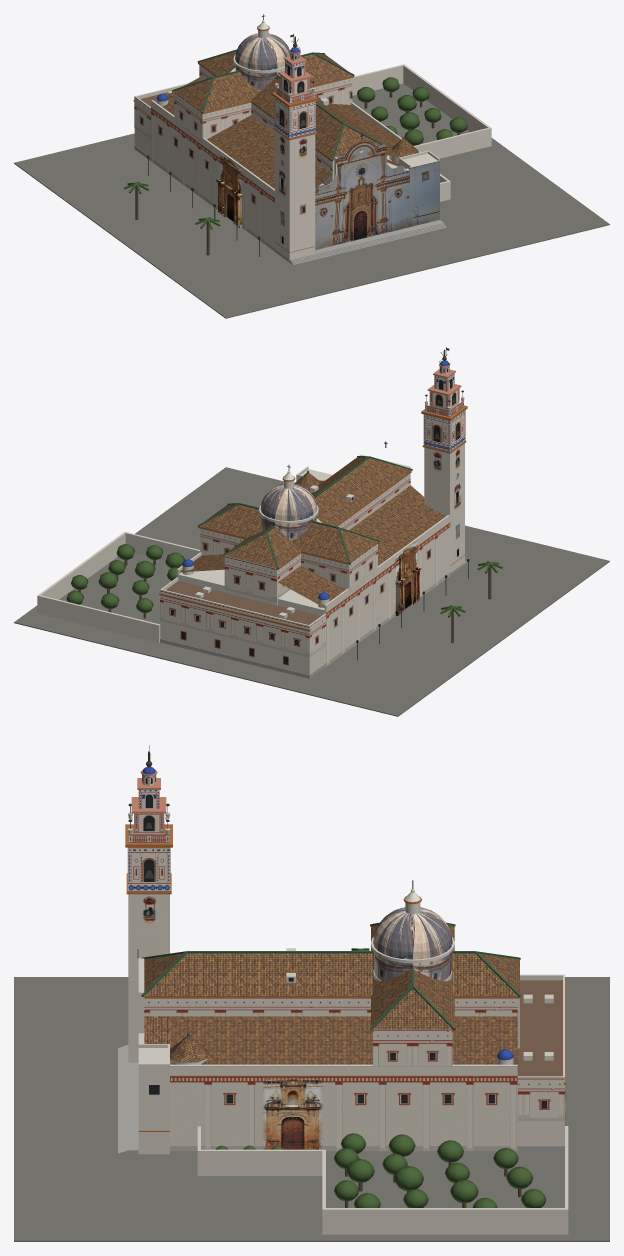
Rendered from iglesia_granada_moguer.glb.
The picture shows the model from 3 angles, top to bottom: view 1: azimuth 30°, elevation 25°; view 2: azimuth 150°, elevation 25°; view 3: azimuth 270°, elevation 25°; orthographic projection. The views are drawn at different scales.
Parts seen in each view (by area): view 1: IG_Plaza, IG_Fachada_Oeste, IG_Muro_Norte, IG_Torre_Cana_O, IG_Tejado_Lat_N1, IG_Tejado_Crucero_O, IG_Torre_Cana_N, IG_Cupula, IG_Tejado_Nave_N, IG_Tapia_Olivos_S, IG_Tapia_Olivos_O, IG_Crucero_ON (+13 smaller); view 2: IG_Plaza, IG_Muro_Norte, IG_Testero_Sacristia, IG_Tejado_Lat_N1, IG_Tejado_Nave_N, IG_Sacristia, IG_Tejado_Crucero_E, IG_Tapia_Olivos_E, IG_Testero_Cabecera, IG_Torre_Cana_N, IG_Sacristia_Azotea, IG_Cupula (+18 smaller); view 3: IG_Plaza, IG_Muro_Sur, IG_Tejado_Lat_S1, IG_Tejado_Nave_S, IG_Tapia_Olivos_S, IG_Clere_S, IG_Sacristia_Azotea, IG_Tapia_Naranjos, IG_Cupula, IG_Torre_Sur, IG_Tejado_Lat_S2, IG_Crucero_S (+18 smaller).
Part boxes in pixels (bbox=[...]): IG_Plaza: bbox=[14, 83, 609, 318]; IG_Fachada_Oeste: bbox=[315, 140, 439, 249]; IG_Muro_Norte: bbox=[151, 101, 274, 251]; IG_Torre_Cana_O: bbox=[290, 134, 315, 259]; IG_Tejado_Lat_N1: bbox=[207, 115, 323, 188]; IG_Tejado_Crucero_O: bbox=[203, 54, 352, 112]; IG_Torre_Cana_N: bbox=[275, 130, 289, 259]; IG_Cupula: bbox=[235, 33, 290, 70]; IG_Tejado_Nave_N: bbox=[251, 76, 342, 159]; IG_Tapia_Olivos_S: bbox=[402, 64, 489, 132]; IG_Tapia_Olivos_O: bbox=[413, 127, 491, 158]; IG_Crucero_ON: bbox=[203, 102, 251, 139]; IG_Plaza: bbox=[14, 467, 609, 716]; IG_Muro_Norte: bbox=[326, 515, 450, 665]; IG_Testero_Sacristia: bbox=[160, 589, 309, 657]; IG_Tejado_Lat_N1: bbox=[349, 492, 445, 565]; IG_Tejado_Nave_N: bbox=[314, 458, 411, 526]; IG_Sacristia: bbox=[160, 621, 326, 674]; IG_Tejado_Crucero_E: bbox=[199, 504, 348, 562]; IG_Tapia_Olivos_E: bbox=[37, 595, 160, 642]; IG_Testero_Cabecera: bbox=[224, 555, 276, 602]; IG_Torre_Cana_N: bbox=[450, 443, 464, 572]; IG_Sacristia_Azotea: bbox=[166, 581, 320, 624]; IG_Cupula: bbox=[260, 483, 317, 520]; IG_Plaza: bbox=[14, 977, 609, 1241]; IG_Muro_Sur: bbox=[170, 1066, 517, 1151]; IG_Tejado_Lat_S1: bbox=[170, 1016, 372, 1064]; IG_Tejado_Nave_S: bbox=[144, 953, 372, 996]; IG_Tapia_Olivos_S: bbox=[326, 1208, 568, 1234]; IG_Clere_S: bbox=[144, 998, 370, 1016]; IG_Sacristia_Azotea: bbox=[517, 980, 562, 1076]; IG_Tapia_Naranjos: bbox=[201, 1149, 325, 1175]; IG_Cupula: bbox=[373, 907, 452, 959]; IG_Torre_Sur: bbox=[138, 1048, 169, 1154]; IG_Tejado_Lat_S2: bbox=[452, 1016, 517, 1064]; IG_Crucero_S: bbox=[373, 1029, 452, 1065].
Size of the model in its own units: 3 by 1.65 by 2.87.
30 materials, 17 textured.
